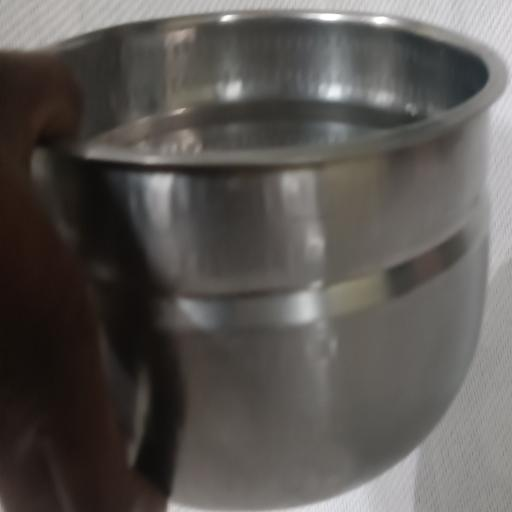vessel: (34, 11, 506, 509)
